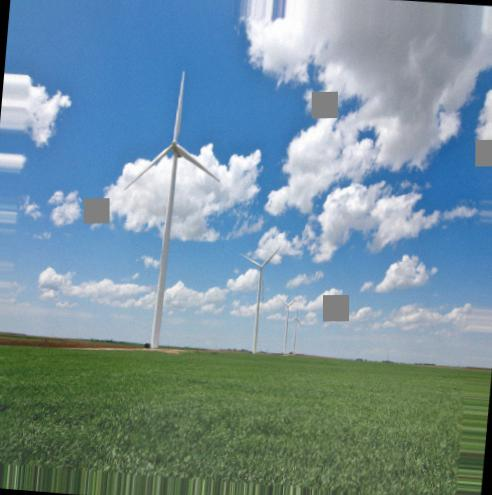wind turbine: (122, 69, 223, 352), (237, 246, 283, 354)
